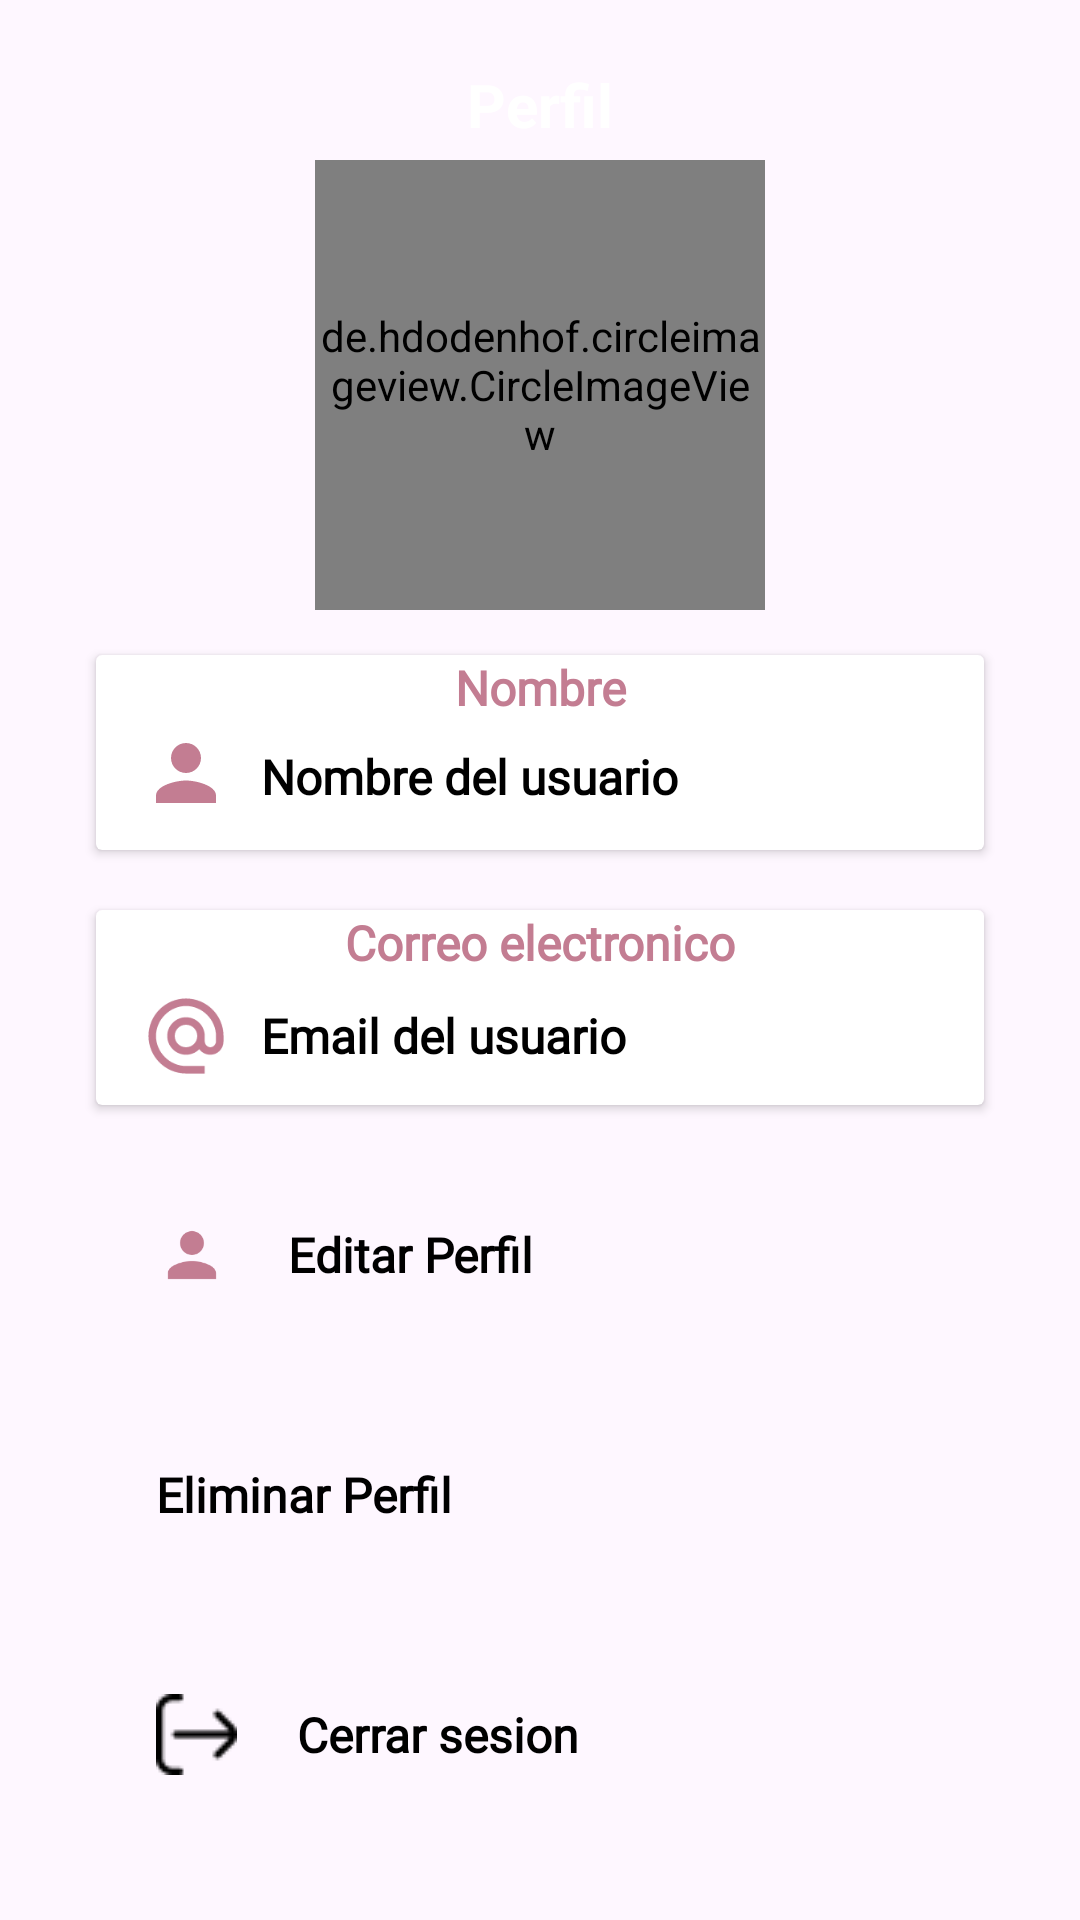

Screen size 1080×1920. Icon name, then its center in pixels as point (x, y):
arroba: point (186, 1036)
person: point (186, 773)
